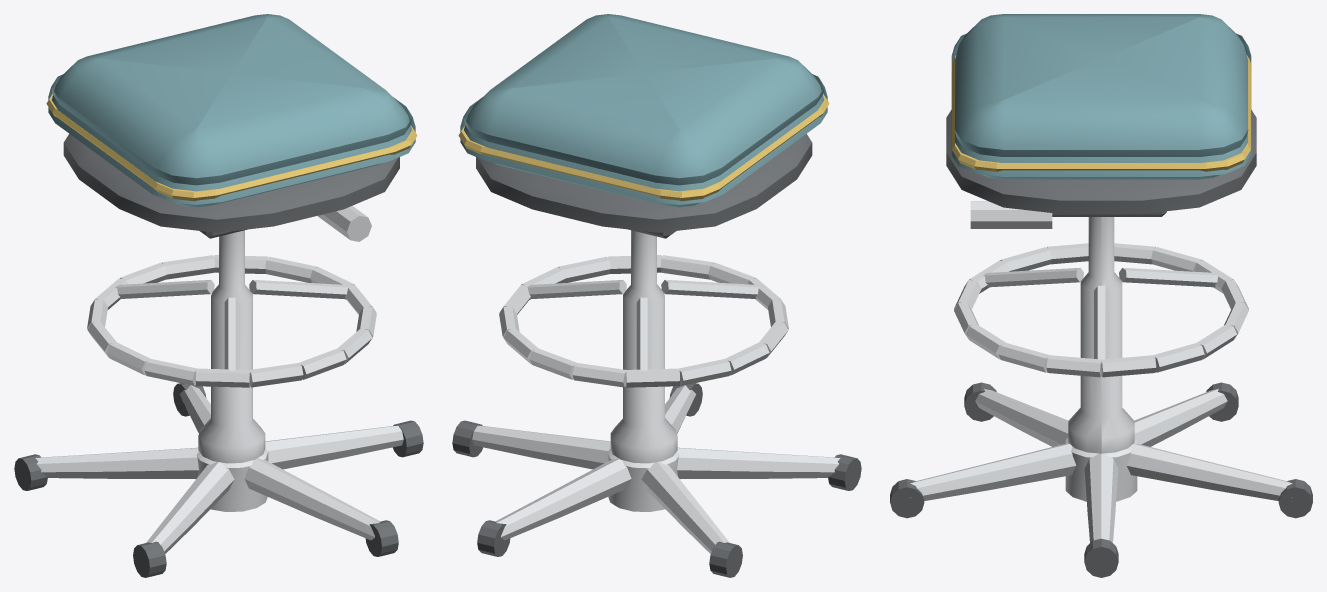
File: clinic-and-veterinary-practice-procedure-stool-ed0091a8__16771.glb
3 views of the same model, side by side, from view 1: azimuth 30°, elevation 25°; view 2: azimuth 150°, elevation 25°; view 3: azimuth 270°, elevation 25° (orthographic).
Visible parts, largest first — view 1: procedure-stool; view 2: procedure-stool; view 3: procedure-stool.
Part boxes in pixels (box(x1,y1,x2,y2)): procedure-stool: box(14, 14, 423, 577); procedure-stool: box(452, 14, 861, 577); procedure-stool: box(890, 14, 1312, 577).
Size of the model in its own units: 0.4763 by 0.579 by 0.5175.
